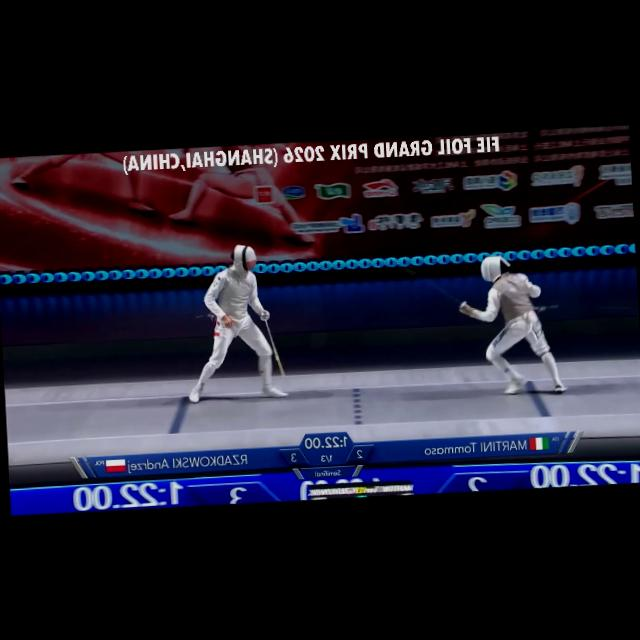blade: (388, 256, 471, 318), (256, 306, 291, 391)
